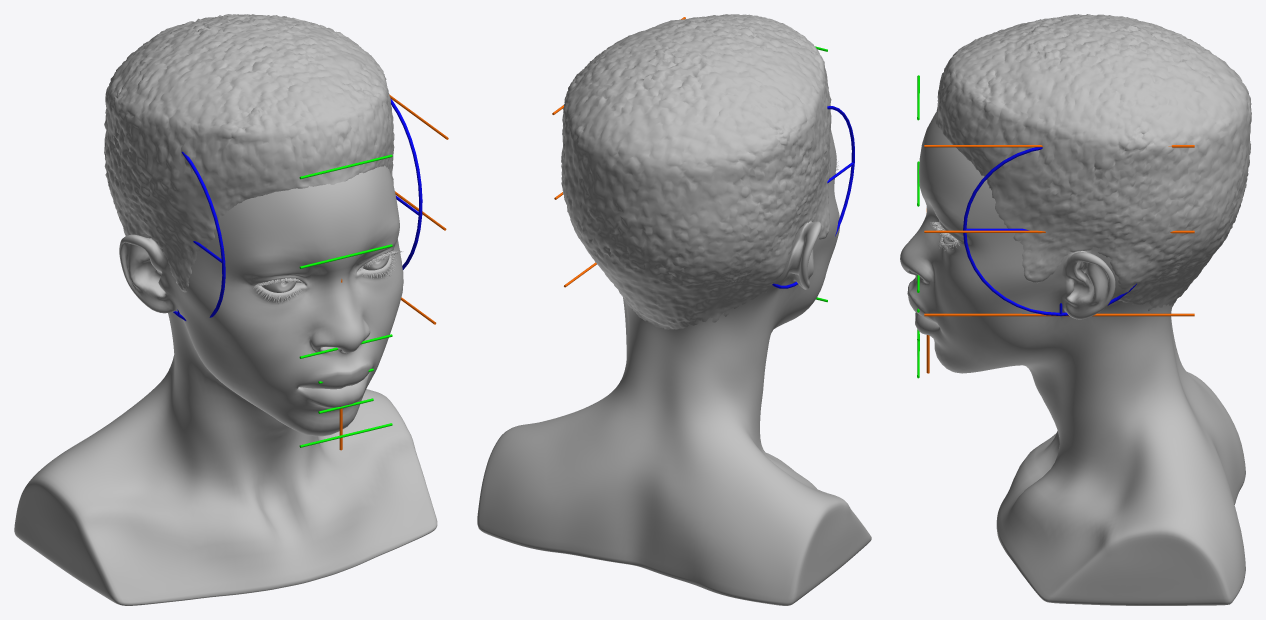
Rendered from female.glb.
3 views of the same model, side by side, from view 1: azimuth 30°, elevation 25°; view 2: azimuth 150°, elevation 25°; view 3: azimuth 270°, elevation 25° (orthographic). The views are drawn at different scales.
Parts seen in each view (by area): view 1: Model.001, Hair, Right_Side_Plane_Guide, Eyelashes.001, Left_Side_Plane_Guide; view 2: Model.001, Hair, Right_Side_Plane_Guide; view 3: Model.001, Hair, Left_Side_Plane_Guide, Side_Plane_Horizontal_Bottom_Guide.
Part boxes in pixels (x1,y1,x2,y2): Model.001: (14, 165, 437, 605); Hair: (104, 14, 394, 292); Right_Side_Plane_Guide: (173, 151, 225, 320); Eyelashes.001: (253, 250, 402, 303); Left_Side_Plane_Guide: (390, 99, 422, 269); Model.001: (477, 129, 871, 605); Hair: (561, 14, 831, 329); Right_Side_Plane_Guide: (772, 106, 854, 288); Model.001: (900, 112, 1245, 605); Hair: (935, 14, 1251, 310); Left_Side_Plane_Guide: (963, 147, 1136, 316); Side_Plane_Horizontal_Bottom_Guide: (924, 313, 1194, 316).
Size of the model in its own units: 7.96 by 11.35 by 7.29.
